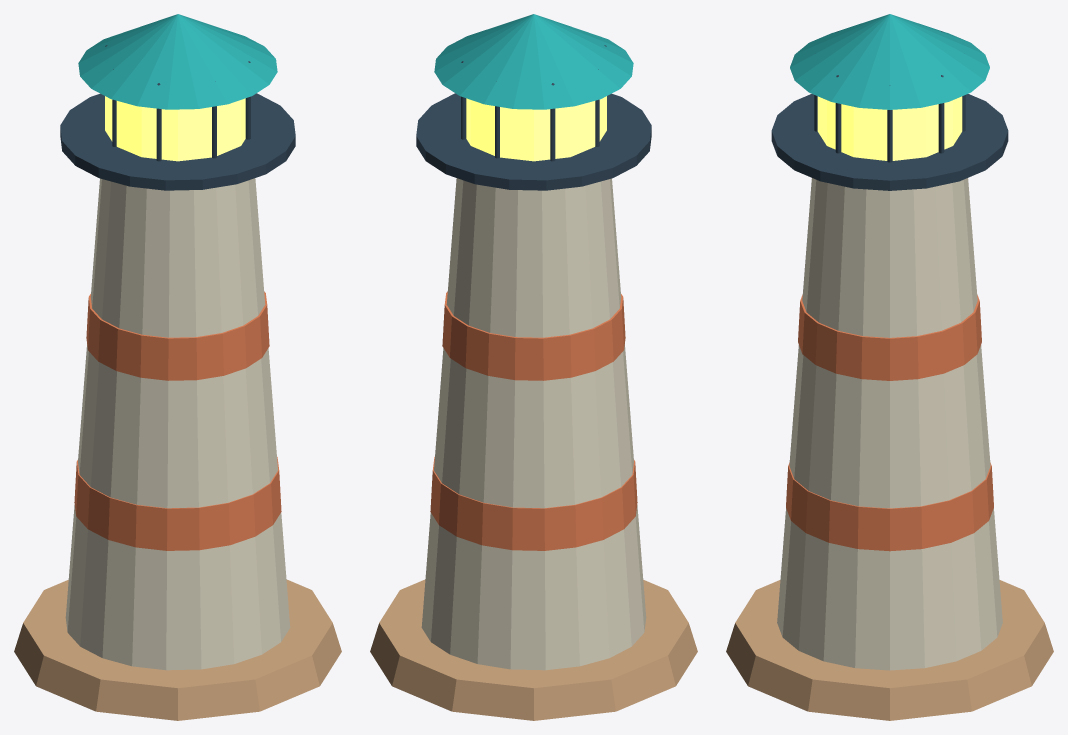
File: lighthouse.glb
3 views of the same model, side by side, from view 1: azimuth 30°, elevation 25°; view 2: azimuth 150°, elevation 25°; view 3: azimuth 270°, elevation 25° (orthographic).
Visible parts, largest first — view 1: Tower, Foundation, Copper crown, Lantern balcony, Vermilion band, Vermilion band.001, Lantern glass; view 2: Tower, Foundation, Copper crown, Lantern balcony, Vermilion band, Vermilion band.001, Lantern glass; view 3: Tower, Foundation, Copper crown, Lantern balcony, Vermilion band, Vermilion band.001, Lantern glass.
Boxes of the visible parts, x1=… form: Tower: x1=65, y1=178, x2=290, y2=670; Foundation: x1=14, y1=579, x2=341, y2=720; Copper crown: x1=78, y1=14, x2=277, y2=109; Lantern balcony: x1=60, y1=93, x2=295, y2=190; Vermilion band: x1=74, y1=457, x2=281, y2=550; Vermilion band.001: x1=86, y1=291, x2=269, y2=380; Lantern glass: x1=105, y1=96, x2=245, y2=161; Tower: x1=421, y1=178, x2=646, y2=670; Foundation: x1=370, y1=579, x2=697, y2=720; Copper crown: x1=434, y1=14, x2=633, y2=109; Lantern balcony: x1=416, y1=93, x2=651, y2=190; Vermilion band: x1=430, y1=457, x2=637, y2=550; Vermilion band.001: x1=442, y1=291, x2=625, y2=380; Lantern glass: x1=466, y1=96, x2=606, y2=161; Tower: x1=777, y1=178, x2=1002, y2=670; Foundation: x1=726, y1=580, x2=1053, y2=720; Copper crown: x1=790, y1=14, x2=989, y2=109; Lantern balcony: x1=771, y1=94, x2=1008, y2=190; Vermilion band: x1=786, y1=462, x2=993, y2=551; Vermilion band.001: x1=798, y1=295, x2=981, y2=380; Lantern glass: x1=817, y1=96, x2=962, y2=160.
Size of the model in its own units: 7.2 by 15.45 by 7.2.
